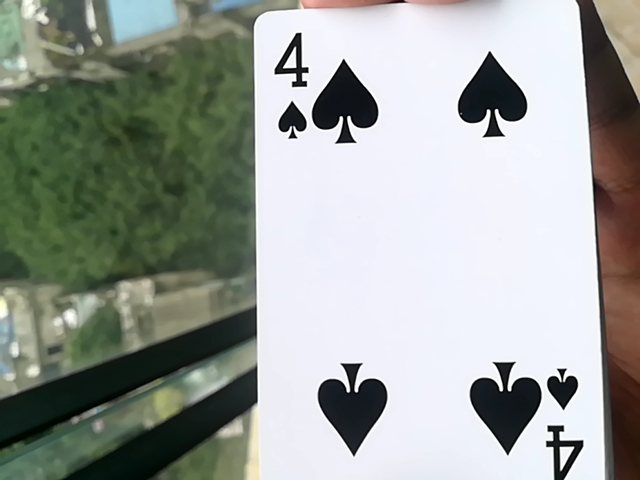ht 4: (237, 8, 624, 480)
